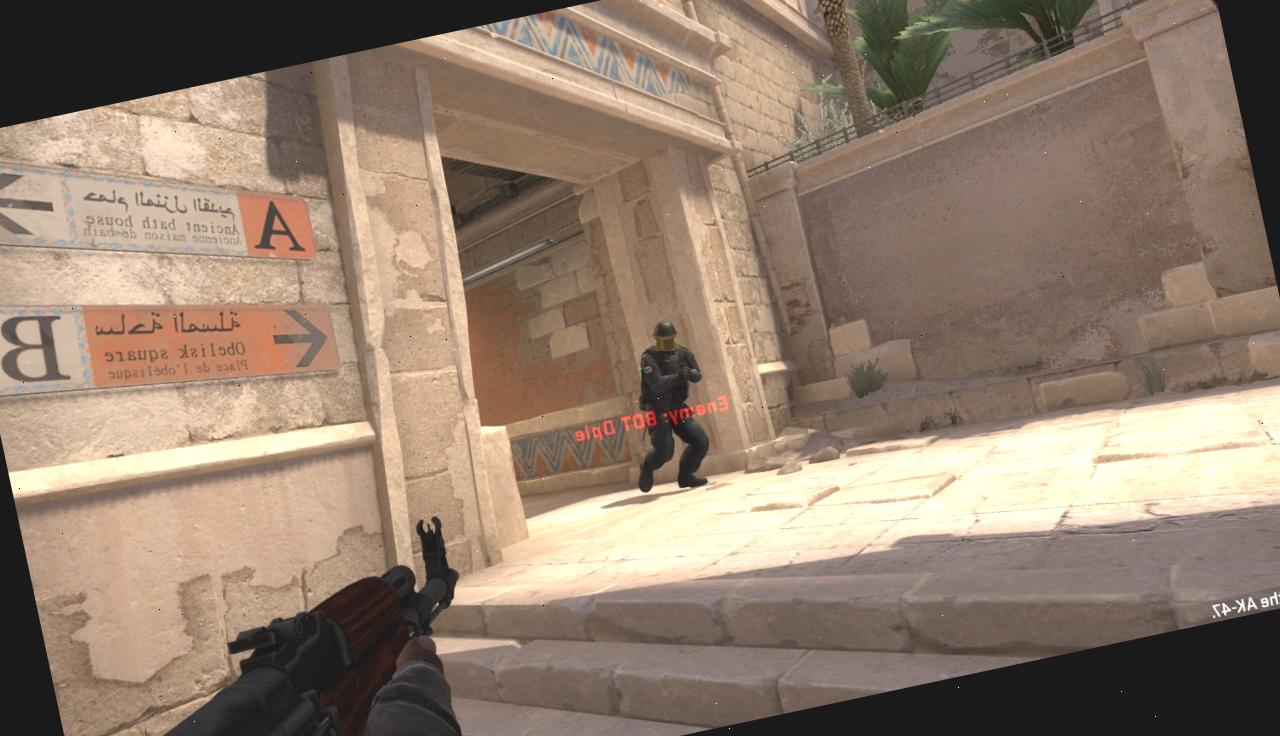ct: (630, 316, 719, 494)
cthead: (652, 322, 678, 354)
rifle: (34, 507, 503, 736)
